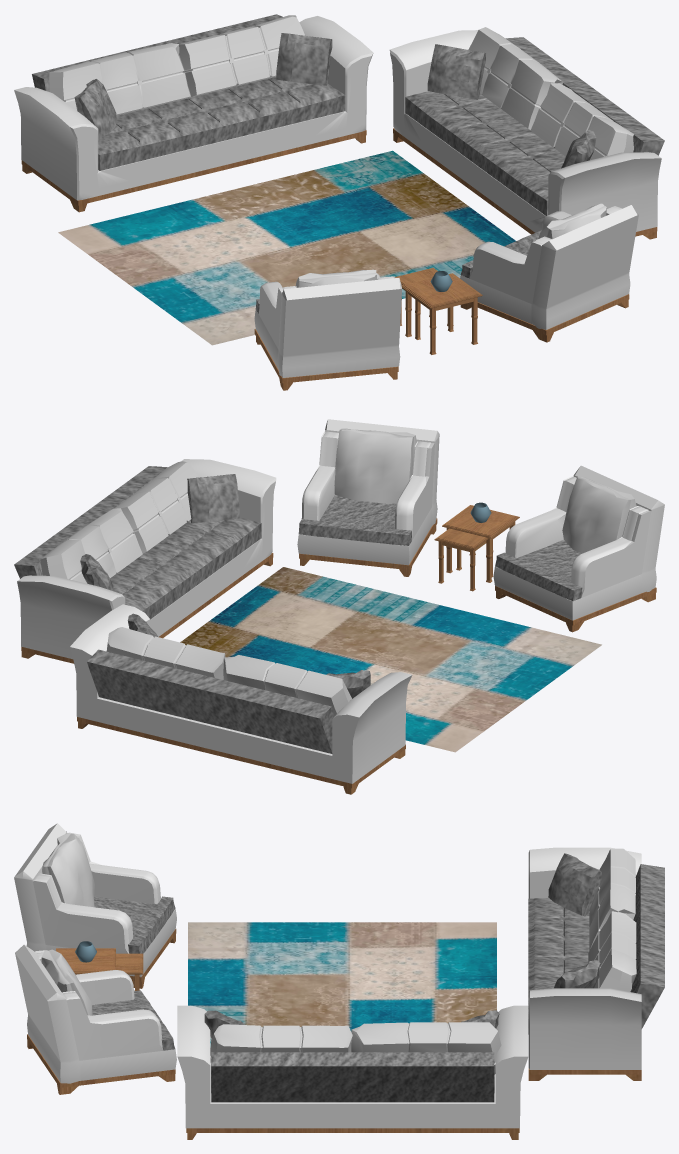
The model's file is sofa_type_1.glb.
3 views of the same model, one above another, from view 1: azimuth 30°, elevation 25°; view 2: azimuth 150°, elevation 25°; view 3: azimuth 270°, elevation 25° (orthographic). The views are drawn at different scales.
Parts seen in each view (by area): view 1: Cube.014, Plane.005, Cube.013, Cube.015, Cube.018, Cube.148, Cube.147; view 2: Cube.014, Plane.005, Cube.013, Cube.018, Cube.015, Cube.148, Cube.147; view 3: Cube.013, Plane.005, Cube.014, Cube.015, Cube.018, Cube.148, Cube.147.
Boxes of the visible parts, box(x1,y1,x2,y2) form: Cube.014: box(14, 14, 373, 212); Plane.005: box(58, 150, 515, 345); Cube.013: box(389, 27, 664, 239); Cube.015: box(460, 203, 638, 342); Cube.018: box(254, 269, 401, 390); Cube.148: box(401, 273, 482, 354); Cube.147: box(395, 267, 453, 339); Cube.014: box(70, 604, 412, 794); Plane.005: box(180, 567, 601, 752); Cube.013: box(14, 459, 276, 663); Cube.018: box(493, 465, 664, 632); Cube.015: box(297, 419, 439, 576); Cube.148: box(442, 505, 519, 582); Cube.147: box(434, 528, 493, 591); Cube.013: box(177, 1005, 528, 1139); Plane.005: box(188, 922, 496, 1047); Cube.014: box(528, 847, 664, 1080); Cube.015: box(15, 944, 176, 1094); Cube.018: box(14, 823, 176, 988); Cube.148: box(56, 948, 115, 974); Cube.147: box(116, 953, 143, 990).
Size of the model in its own units: 4.47 by 0.96 by 5.42.
7 materials, 4 textured.
